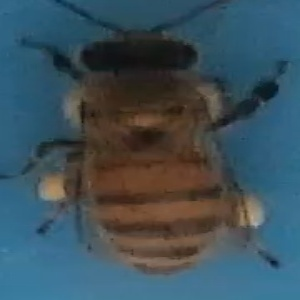bee: (22, 3, 297, 279)
